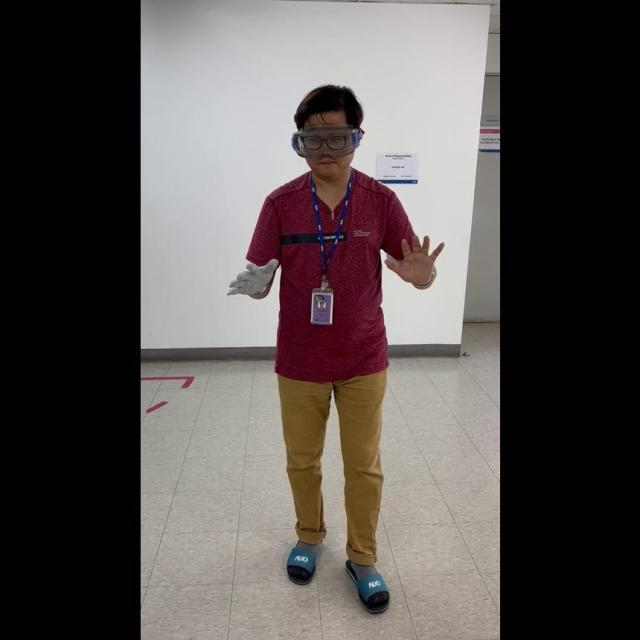bare_hand: (383, 228, 444, 287)
gloved_hand: (225, 252, 278, 301)
